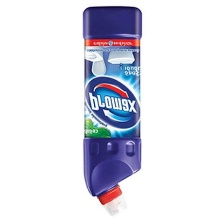cleaning_solution: (78, 4, 144, 222)
